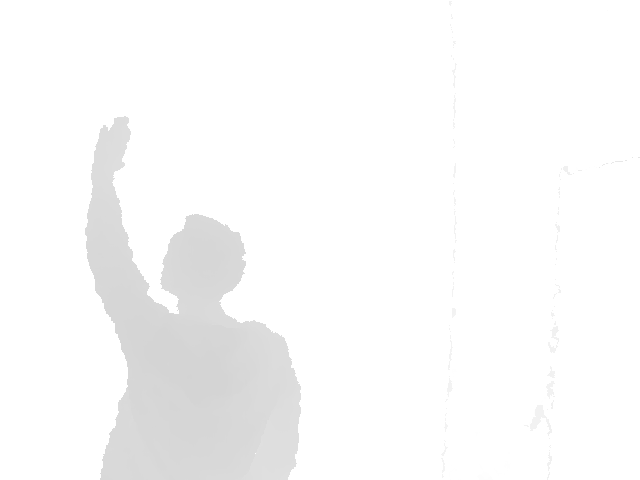hand: (89, 115, 132, 174)
head: (159, 213, 248, 308)
person: (84, 115, 303, 480)
